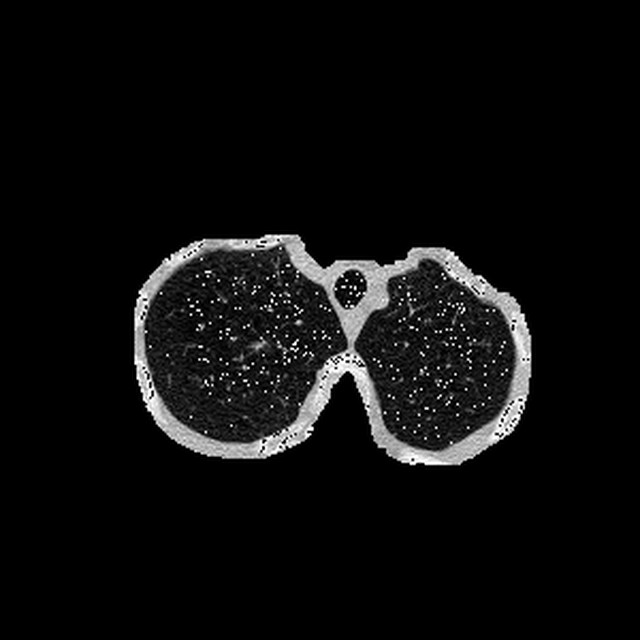PN: (252, 339, 265, 352)
